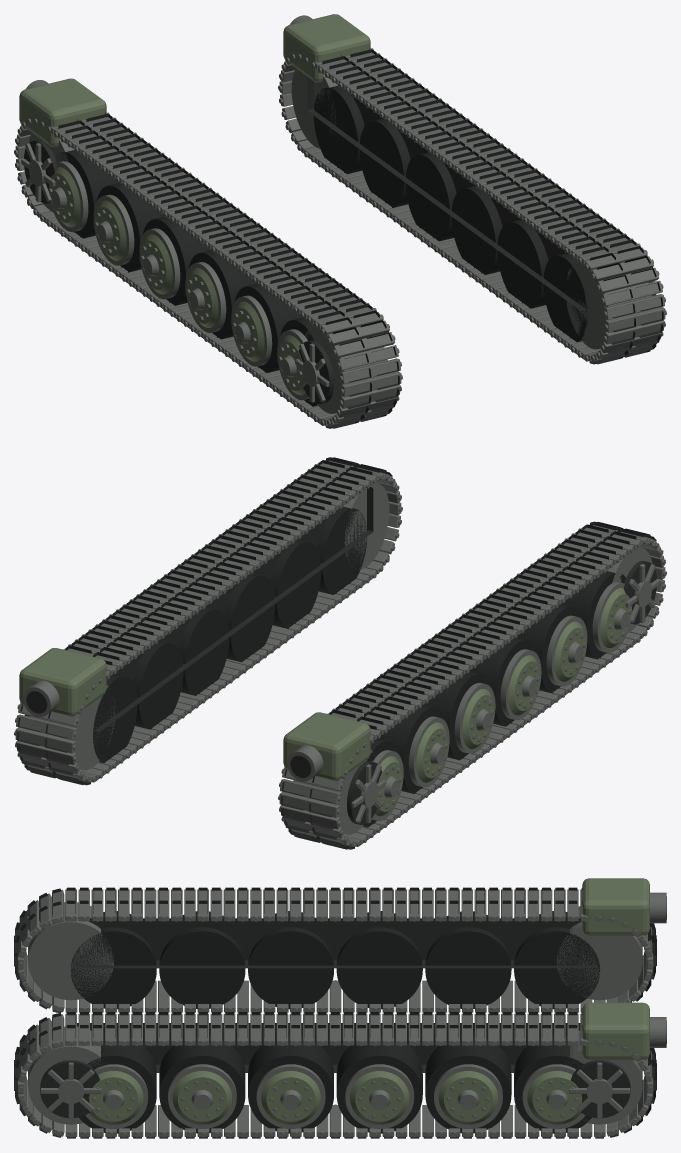
The model's file is tracks_2_6.glb.
The picture shows the model from 3 angles, top to bottom: view 1: azimuth 30°, elevation 25°; view 2: azimuth 150°, elevation 25°; view 3: azimuth 270°, elevation 25°; orthographic projection. The views are drawn at different scales.
Visible parts, largest first — view 1: tracks.010; view 2: tracks.010; view 3: tracks.010.
Part boxes in pixels (left/top/right/bottom): tracks.010: left=14, top=14, right=666, bottom=428; tracks.010: left=14, top=457, right=666, bottom=849; tracks.010: left=14, top=878, right=666, bottom=1138.
Bounding box in the file's own units: 3.91 × 1.29 × 6.75.
